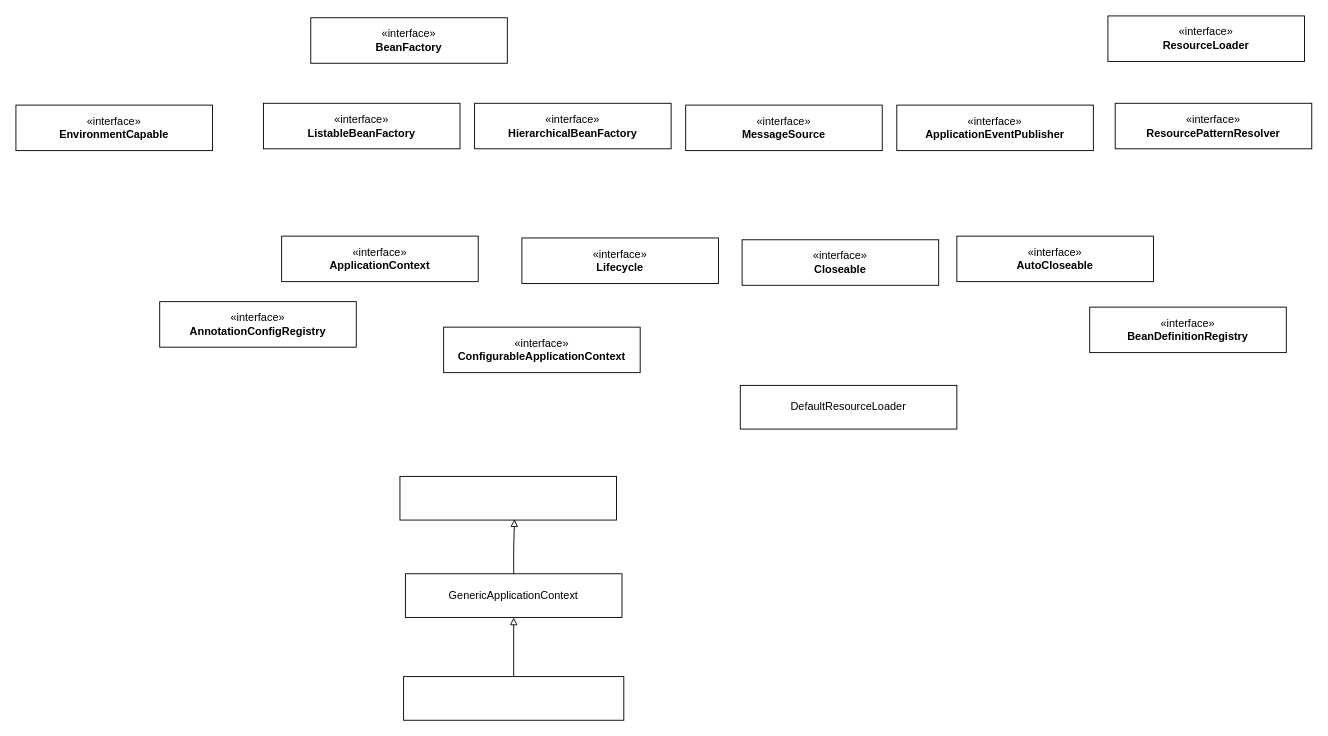
This 1328x736 diagram has some shape labels left out. The shapes that lost their labels are listed below. From the top down, each one's centre as x and y in pixels, then its label:
[508,497]: AbstractApplicationContext
[513,698]: AnnotationConfigApplicationContext
